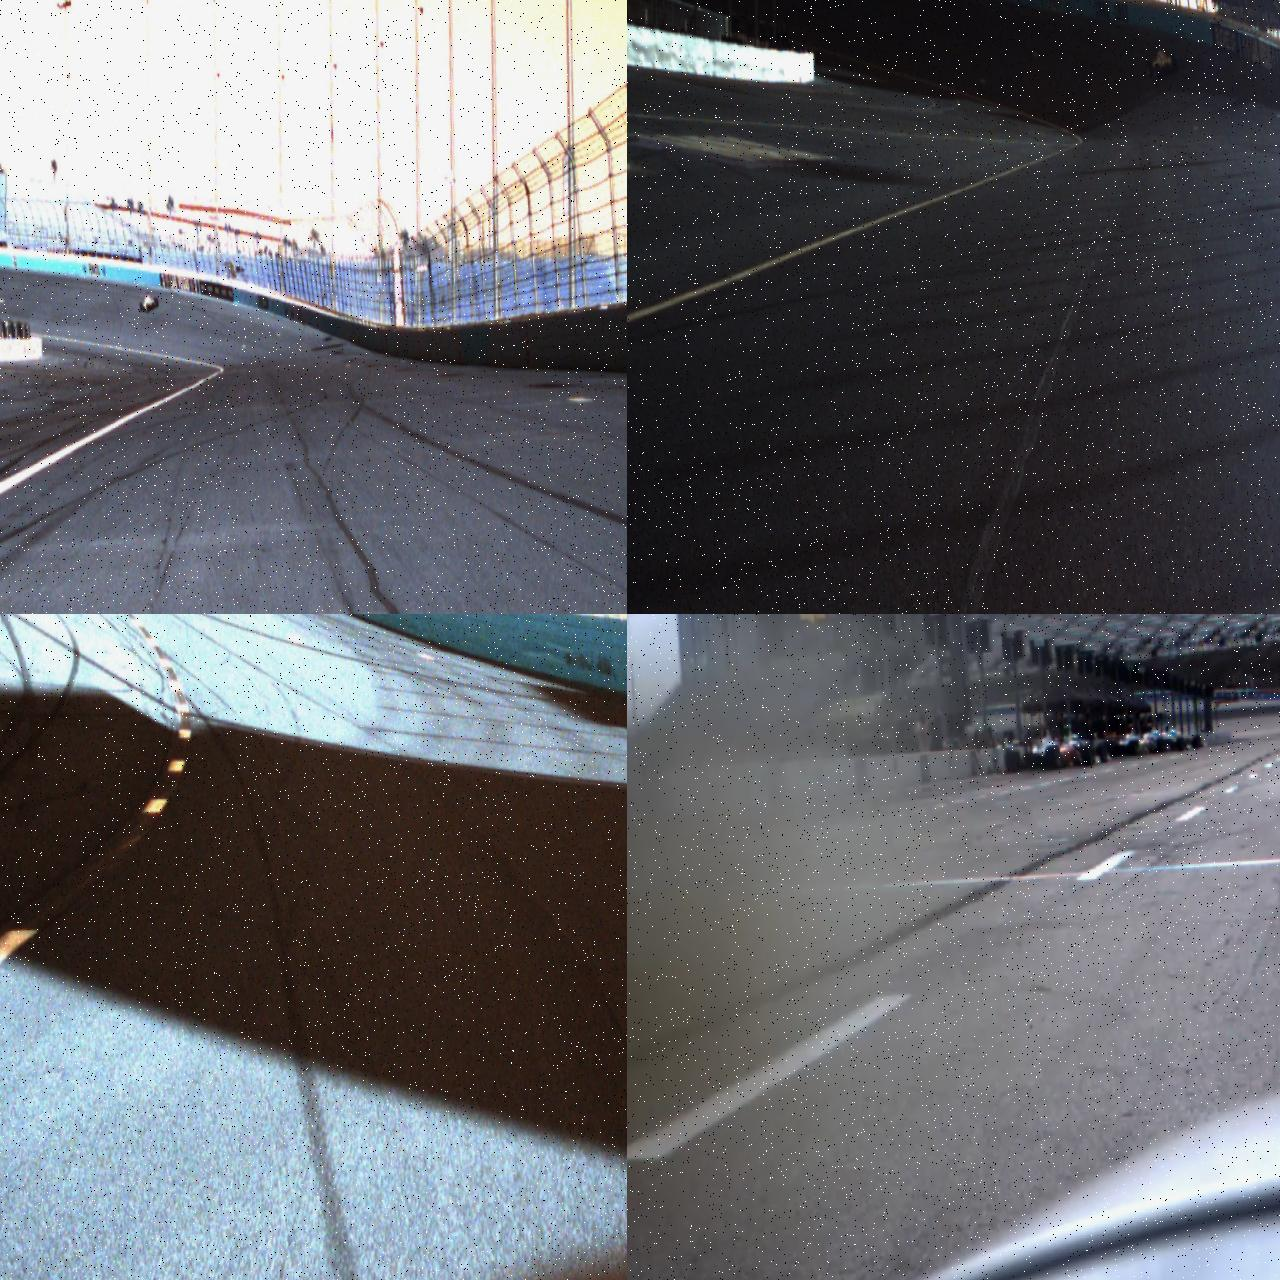AV: (1145, 45, 1178, 81), (136, 291, 158, 313)
Wheel: (1044, 744, 1062, 769), (1005, 749, 1021, 770), (1082, 745, 1095, 765), (1096, 743, 1107, 763), (1191, 735, 1201, 749), (1176, 737, 1186, 751), (1156, 738, 1164, 753), (1155, 63, 1160, 80), (1149, 61, 1153, 77), (1172, 55, 1177, 72), (154, 297, 158, 307), (147, 302, 149, 312), (139, 302, 142, 312)
